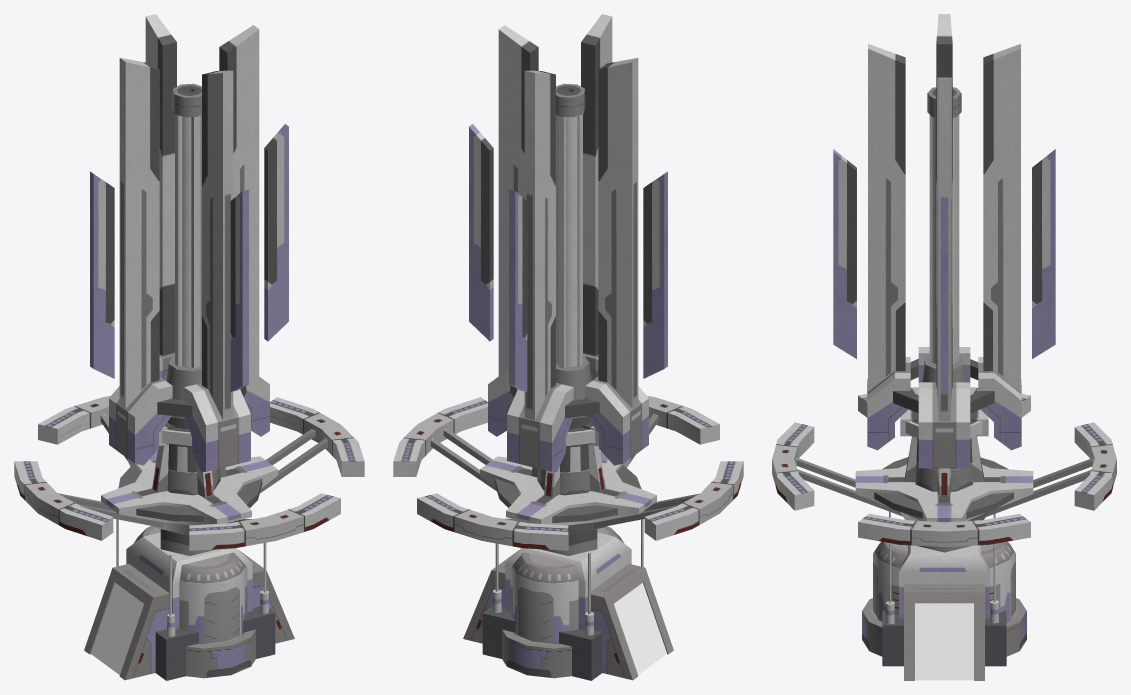
File: turret-plasma-ground.glb
The picture shows the model from 3 angles, left to right: view 1: azimuth 30°, elevation 25°; view 2: azimuth 150°, elevation 25°; view 3: azimuth 270°, elevation 25°; orthographic projection.
Parts seen in each view (by area): view 1: turret-plasma-ground-3, turret-plasma-ground-1, turret-plasma-ground-2, turret-plasma-ground-4, turret-plasma-ground-black; view 2: turret-plasma-ground-3, turret-plasma-ground-1, turret-plasma-ground-2, turret-plasma-ground-4, turret-plasma-ground-black; view 3: turret-plasma-ground-3, turret-plasma-ground-1, turret-plasma-ground-2, turret-plasma-ground-4, turret-plasma-ground-black.
Boxes of the visible parts, x1,y1,x2,y2 form: turret-plasma-ground-3: [109, 14, 269, 471]; turret-plasma-ground-1: [84, 83, 294, 680]; turret-plasma-ground-2: [14, 395, 364, 550]; turret-plasma-ground-4: [90, 124, 288, 391]; turret-plasma-ground-black: [91, 583, 143, 674]; turret-plasma-ground-3: [488, 14, 648, 471]; turret-plasma-ground-1: [463, 83, 673, 680]; turret-plasma-ground-2: [393, 395, 743, 550]; turret-plasma-ground-4: [469, 124, 667, 391]; turret-plasma-ground-black: [614, 583, 666, 674]; turret-plasma-ground-3: [867, 14, 1021, 468]; turret-plasma-ground-1: [855, 87, 1033, 680]; turret-plasma-ground-2: [772, 387, 1116, 546]; turret-plasma-ground-4: [833, 149, 1055, 394]; turret-plasma-ground-black: [915, 603, 973, 680].
Size of the model in its own units: 5.35 by 10.24 by 5.35.
Materials: 3 (2 with a texture image).
